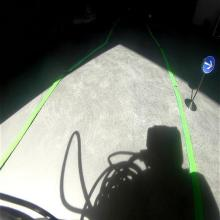right: (202, 55, 215, 74)
